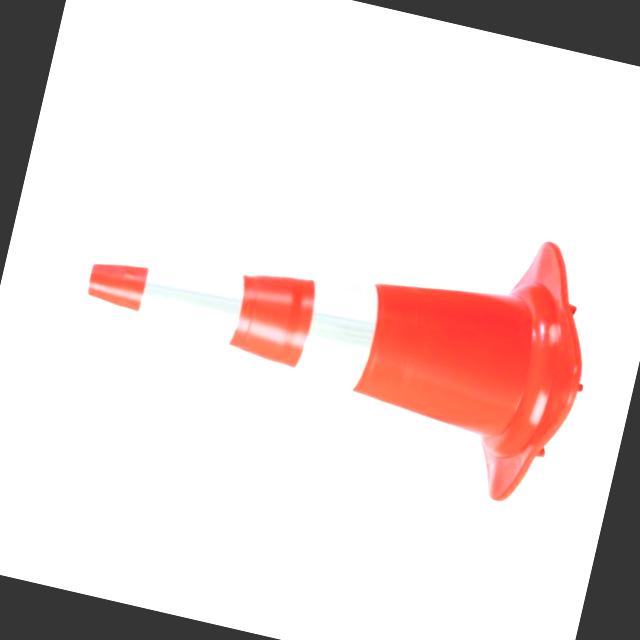cone: (49, 119, 598, 510)
